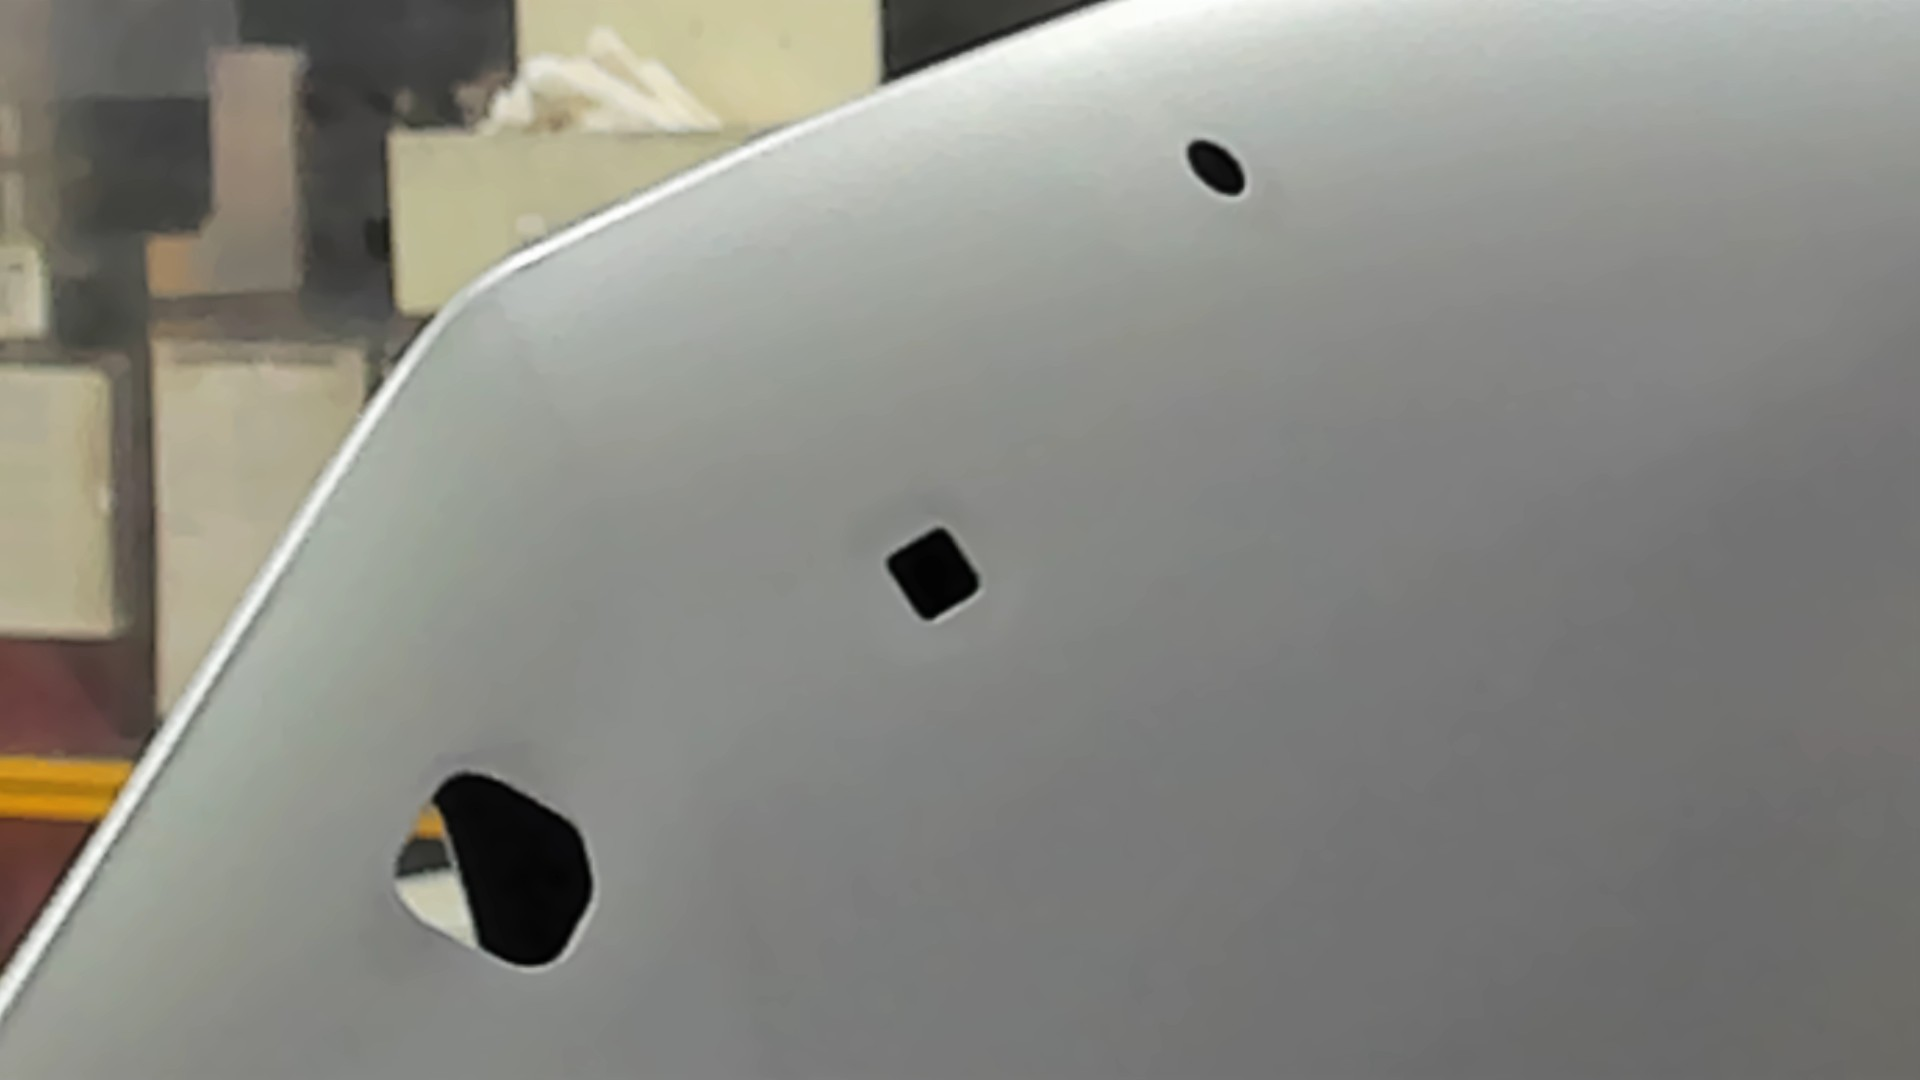chico: (1182, 132, 1254, 200)
grande: (382, 764, 604, 982)
mediano: (876, 524, 989, 632)
